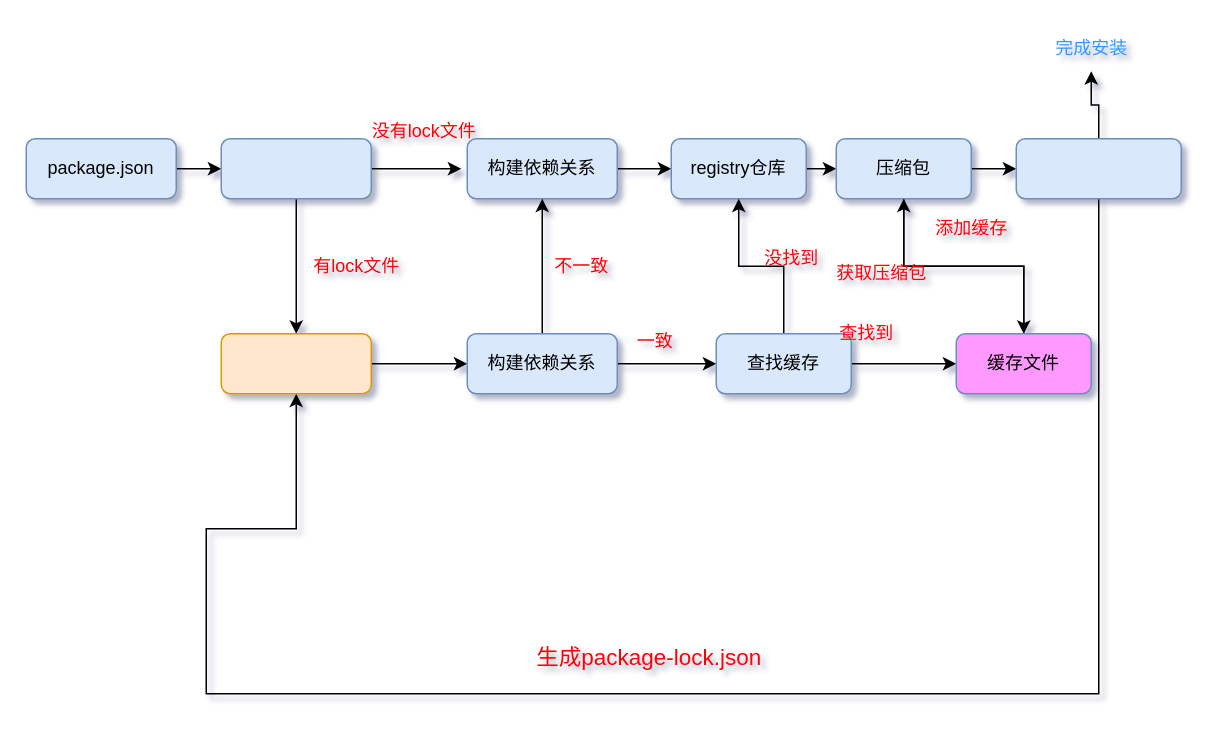
This 1217x741 diagram has some shape labels left out. Here are the shapes that lost their labels. From the top down, the box of each, then its label:
(220, 137, 371, 199): npm install
(1015, 137, 1181, 199): 压缩到 node_modules
(220, 332, 371, 394): package-lock.json
